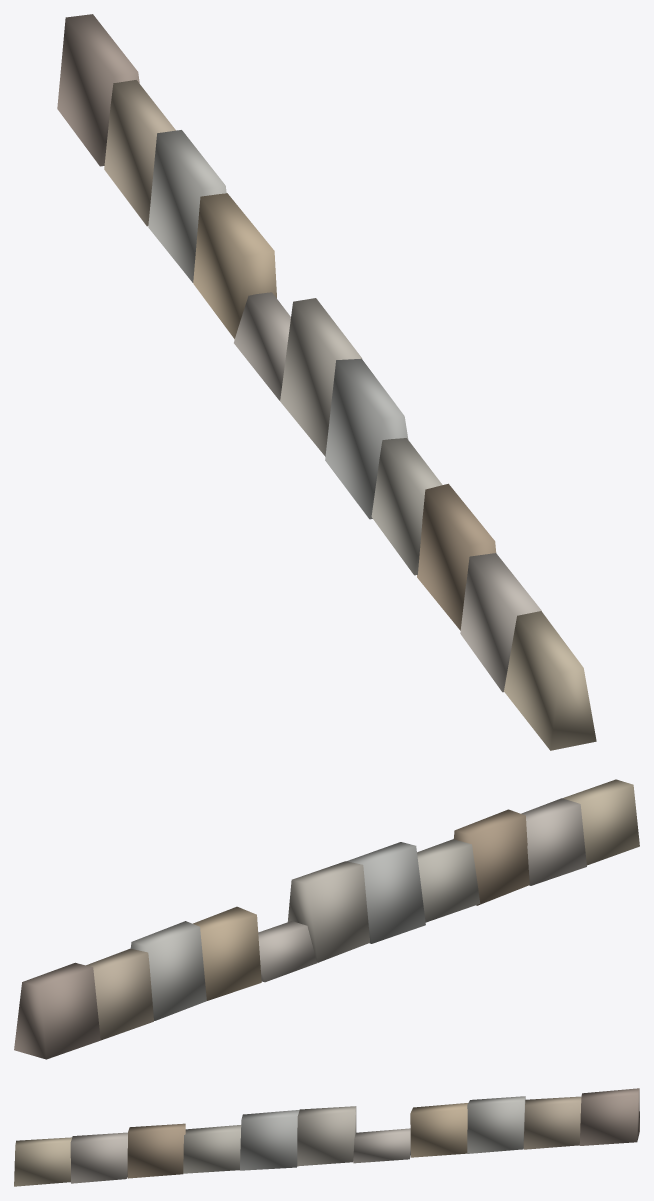
Rendered from farm_4_33_far.glb.
3 views of the same model, one above another, from view 1: azimuth 30°, elevation 25°; view 2: azimuth 150°, elevation 25°; view 3: azimuth 270°, elevation 25° (orthographic). The views are drawn at different scales.
Parts seen in each view (by area): view 1: geometry_0; view 2: geometry_0; view 3: geometry_0.
Boxes of the visible parts, box(x1,y1,x2,y2) form: geometry_0: box(57, 14, 596, 750); geometry_0: box(14, 779, 639, 1059); geometry_0: box(14, 1088, 639, 1186).
Size of the model in its own units: 2.71 by 3.63 by 16.92.
